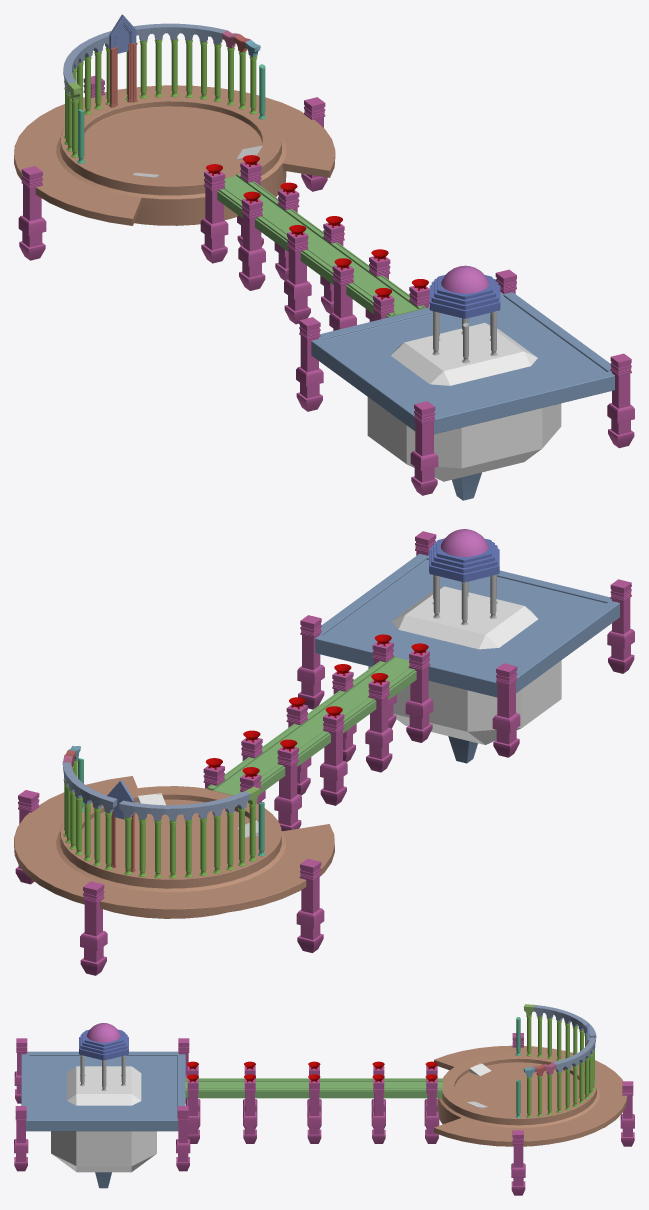
File: new_arena.fbx
The picture shows the model from 3 angles, top to bottom: view 1: azimuth 30°, elevation 25°; view 2: azimuth 150°, elevation 25°; view 3: azimuth 270°, elevation 25°; orthographic projection. The views are drawn at different scales.
Visible parts, largest first — view 1: pCylinder5, pCube47, pCube68, 立方体, polySurface45, polySurface39, polySurface29, pCylinder37, pCylinder71, pSphere1, polySurface37, pCylinder70 (+1 smaller); view 2: pCylinder5, pCube68, pCube47, 立方体, polySurface39, polySurface45, polySurface29, pCylinder37, pCylinder71, pSphere1, polySurface41; view 3: pCylinder5, pCube47, pCube68, 立方体, polySurface45, polySurface39, polySurface29, pCylinder37, pCylinder71, pSphere1, polySurface41, pCylinder70.
Part boxes in pixels (x1=…): pCylinder5: x1=14, y1=85, x2=335, y2=225; pCube47: x1=311, y1=292, x2=614, y2=500; pCube68: x1=18, y1=76, x2=634, y2=495; 立方体: x1=367, y1=323, x2=561, y2=481; polySurface45: x1=217, y1=173, x2=425, y2=317; polySurface39: x1=64, y1=38, x2=257, y2=157; polySurface29: x1=63, y1=23, x2=226, y2=93; pCylinder37: x1=429, y1=274, x2=500, y2=318; pCylinder71: x1=206, y1=155, x2=428, y2=299; pSphere1: x1=441, y1=265, x2=488, y2=293; polySurface37: x1=109, y1=42, x2=137, y2=107; pCylinder70: x1=77, y1=64, x2=266, y2=163; pCylinder5: x1=14, y1=776, x2=334, y2=918; pCube68: x1=15, y1=531, x2=634, y2=975; pCube47: x1=315, y1=553, x2=619, y2=763; 立方体: x1=368, y1=586, x2=561, y2=744; polySurface39: x1=63, y1=760, x2=256, y2=878; polySurface45: x1=206, y1=655, x2=416, y2=795; polySurface29: x1=62, y1=762, x2=250, y2=820; pCylinder37: x1=429, y1=538, x2=499, y2=582; pCylinder71: x1=206, y1=634, x2=428, y2=778; pSphere1: x1=440, y1=529, x2=488, y2=556; polySurface41: x1=432, y1=575, x2=469, y2=625; pCylinder5: x1=434, y1=1045, x2=627, y2=1146; pCube47: x1=21, y1=1051, x2=185, y2=1188; pCube68: x1=14, y1=1033, x2=634, y2=1195; 立方体: x1=51, y1=1066, x2=156, y2=1172; polySurface45: x1=185, y1=1078, x2=442, y2=1098; polySurface39: x1=526, y1=1015, x2=595, y2=1117; polySurface29: x1=534, y1=1005, x2=596, y2=1072; pCylinder37: x1=79, y1=1029, x2=128, y2=1060; pCylinder71: x1=187, y1=1061, x2=437, y2=1082; pSphere1: x1=87, y1=1023, x2=120, y2=1042; polySurface41: x1=80, y1=1055, x2=125, y2=1091; pCylinder70: x1=515, y1=1017, x2=521, y2=1118.
Size of the model in its own units: 567 by 417 by 1440.
